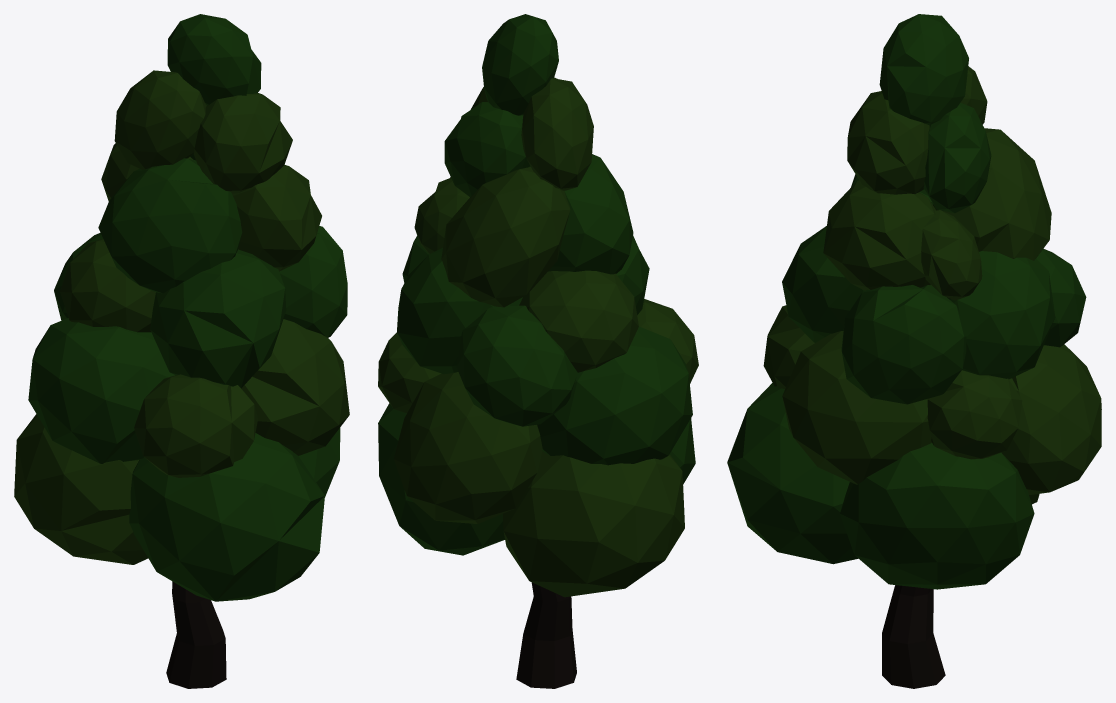
The model's file is topagac.FBX.
3 views of the same model, side by side, from view 1: azimuth 30°, elevation 25°; view 2: azimuth 150°, elevation 25°; view 3: azimuth 270°, elevation 25° (orthographic). The views are drawn at different scales.
Parts seen in each view (by area): view 1: Poplar; view 2: Poplar; view 3: Poplar.
Boxes of the visible parts, left/top/right/bottom form: Poplar: left=14, top=14, right=349, bottom=688; Poplar: left=378, top=14, right=698, bottom=688; Poplar: left=727, top=14, right=1101, bottom=688.
Bounding box in the file's own units: 247 × 533 × 272.
